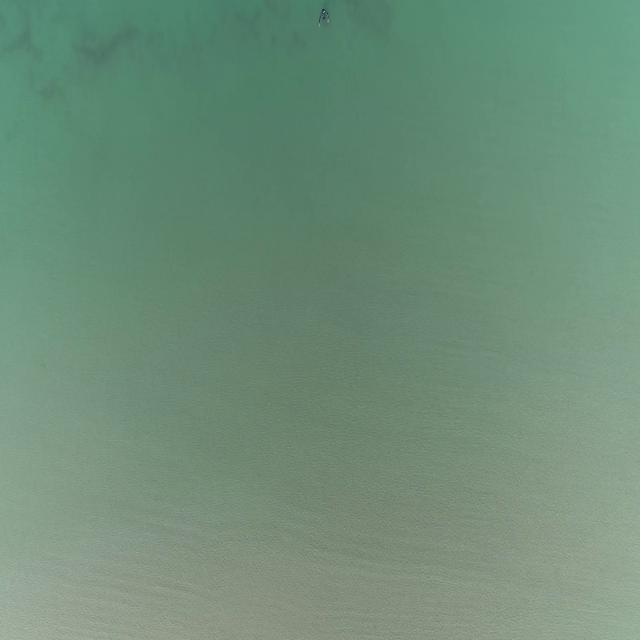person: (318, 7, 331, 27)
